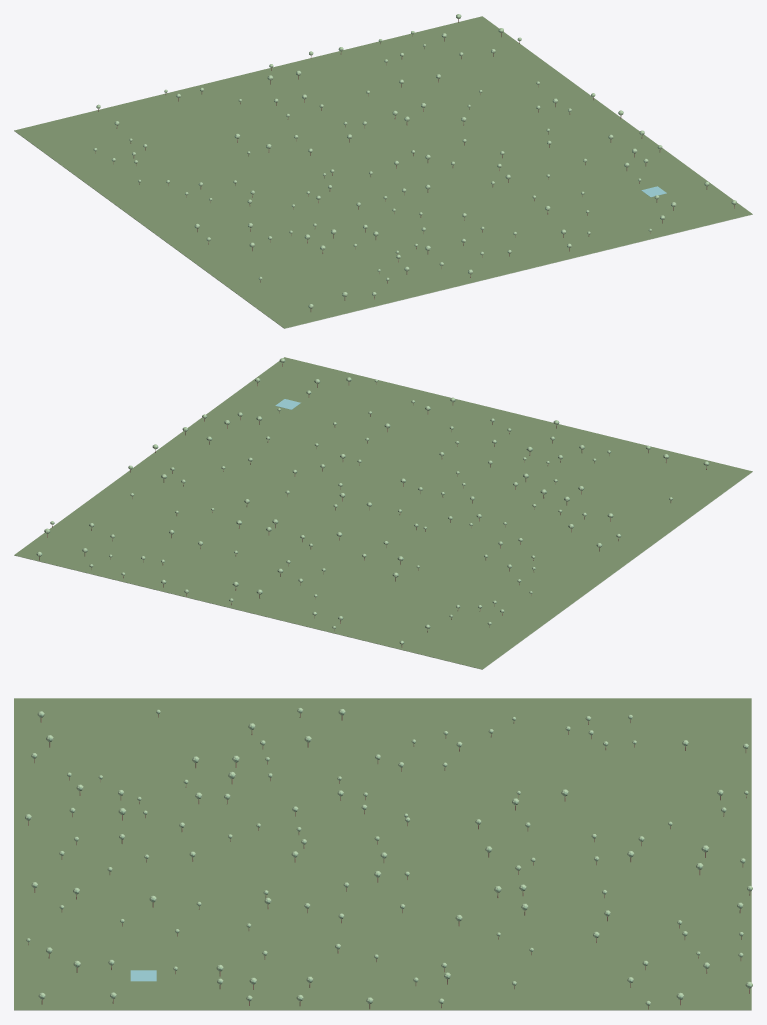
The model's file is chunk_6_3_high.glb.
The picture shows the model from 3 angles, top to bottom: view 1: azimuth 30°, elevation 25°; view 2: azimuth 150°, elevation 25°; view 3: azimuth 270°, elevation 25°; orthographic projection. The views are drawn at different scales.
Parts seen in each view (by area): view 1: city_forest_floor, city_foliage, city_foliage_dark, city_grass, city_bark; view 2: city_forest_floor, city_foliage, city_foliage_dark, city_grass, city_bark; view 3: city_forest_floor, city_foliage, city_foliage_dark, city_bark, city_grass.
Part boxes in pixels (x1,y1,x2,y2): city_forest_floor: (14,16,752,328); city_foliage: (94,14,736,308); city_foliage_dark: (93,15,736,307); city_grass: (14,131,752,328); city_bark: (95,19,734,311); city_forest_floor: (14,357,752,669); city_foliage: (37,358,708,644); city_foliage_dark: (36,359,709,643); city_grass: (14,472,752,669); city_bark: (39,363,706,647); city_forest_floor: (14,698,751,1009); city_foliage: (25,707,752,1005); city_foliage_dark: (27,710,751,1005); city_bark: (28,713,750,1009); city_grass: (14,1010,751,1010).
Bounding box in the file's own units: 513 × 9.79 × 513.
